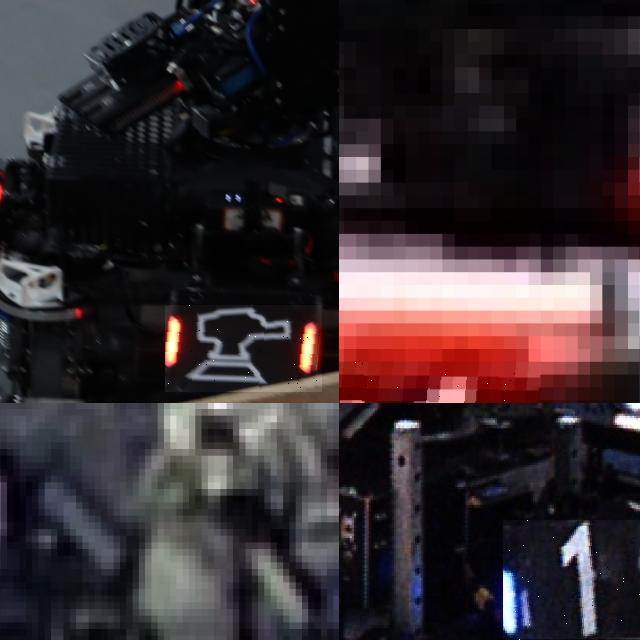B1: (503, 520, 640, 640)
R4: (339, 361, 540, 403)
Rs: (165, 305, 322, 392)
